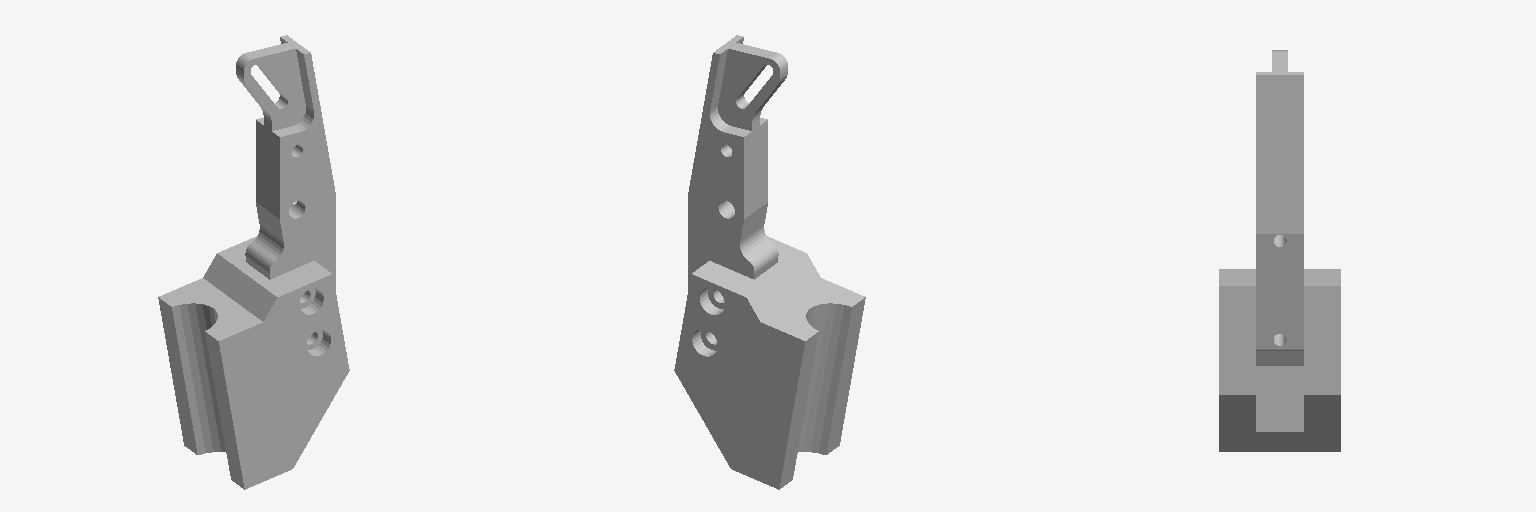
File: clamp_arm_posx.obj
3 views of the same model, side by side, from view 1: azimuth 30°, elevation 25°; view 2: azimuth 150°, elevation 25°; view 3: azimuth 270°, elevation 25° (orthographic).
Bounding box in the file's own units: 0.0387 × 0.1102 × 0.03.